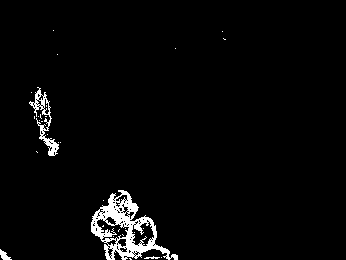person: (24, 86, 62, 161)
